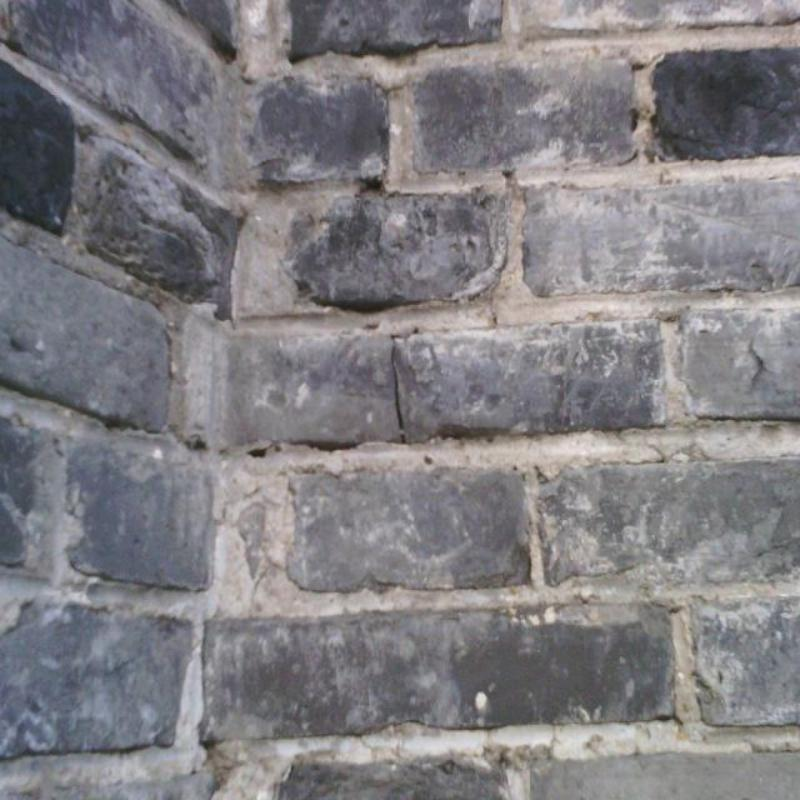pothole: (390, 346, 407, 444), (361, 179, 382, 190)
